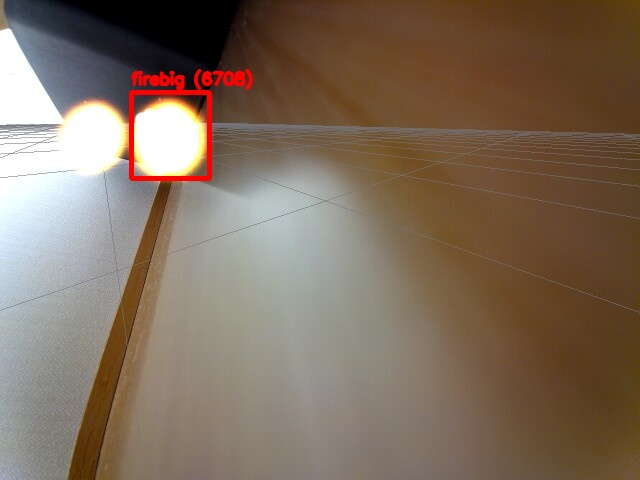firebig: (131, 92, 209, 178)
